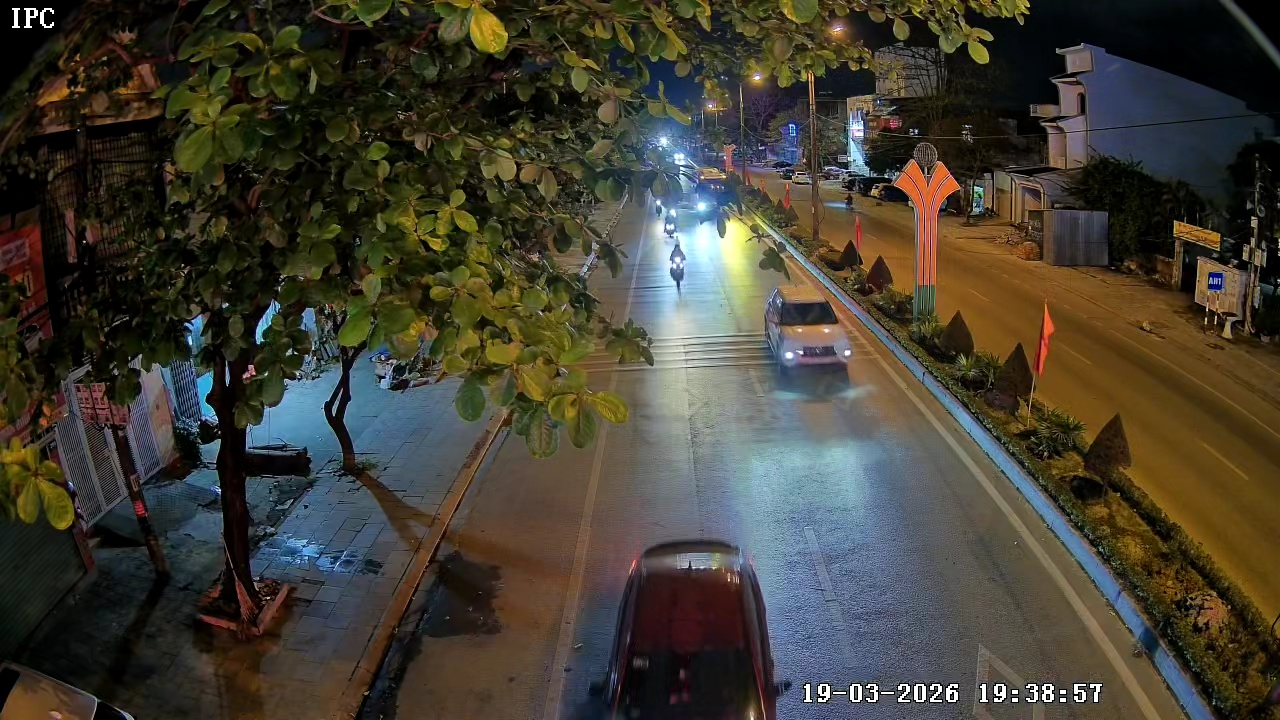car: (585, 531, 787, 719), (765, 285, 852, 380)
motorbike: (667, 233, 688, 291)
